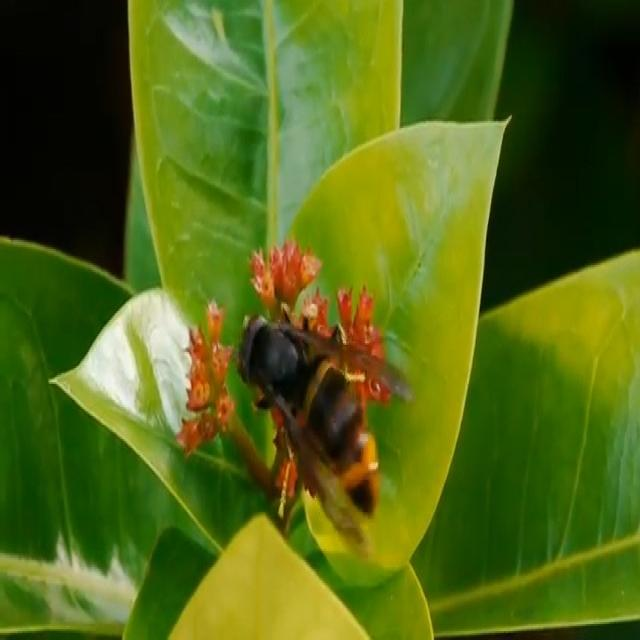Hornets: (232, 300, 412, 546)
